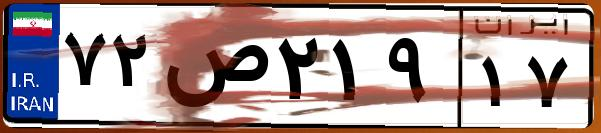1: (330, 28, 385, 110), (475, 38, 525, 113)
2: (270, 28, 330, 110), (110, 28, 158, 98)
7: (57, 26, 110, 100), (525, 38, 570, 115)
9: (385, 28, 445, 110)
ص: (158, 20, 270, 120)
